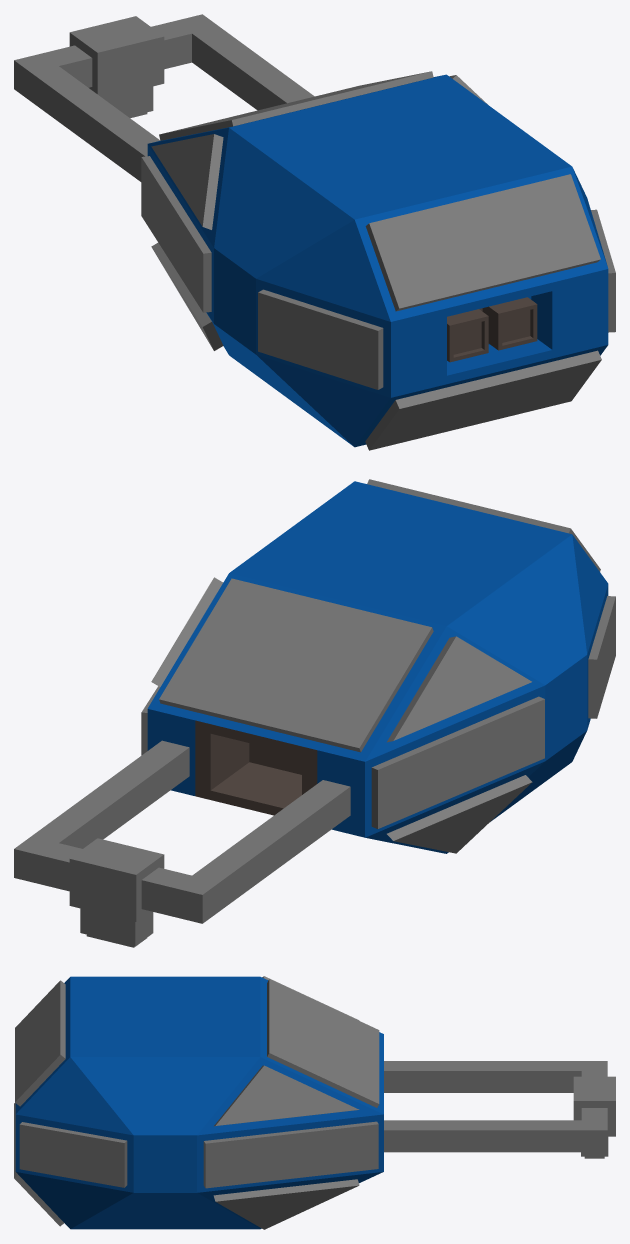
File: hover_miner.fbx
3 renders of one model, top to bottom at view 1: azimuth 30°, elevation 25°; view 2: azimuth 150°, elevation 25°; view 3: azimuth 270°, elevation 25°, orthographic. The views are drawn at different scales.
Visible parts, largest first — view 1: Cube.051, Cube.052, Cube.055; view 2: Cube.051, Cube.052; view 3: Cube.051, Cube.052.
Boxes of the visible parts, x1,y1,x2,y2 form: Cube.051: [141, 71, 615, 450]; Cube.052: [14, 14, 314, 181]; Cube.055: [447, 297, 537, 362]; Cube.051: [141, 479, 615, 853]; Cube.052: [14, 740, 350, 947]; Cube.051: [14, 976, 383, 1229]; Cube.052: [384, 1061, 615, 1158].
Size of the model in its own units: 590 by 378 by 1191.
